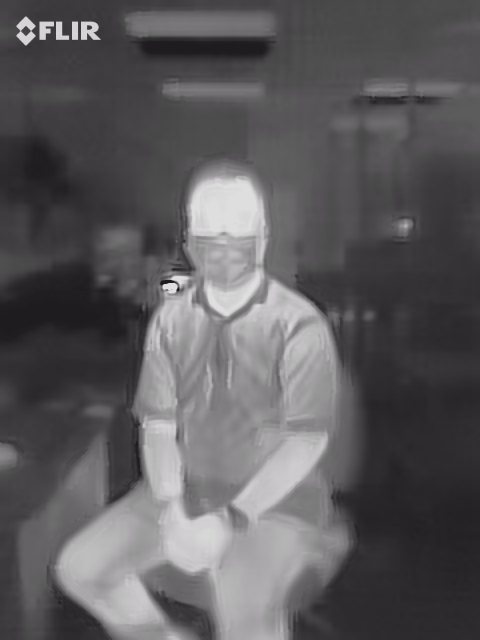head: (182, 159, 268, 291)
